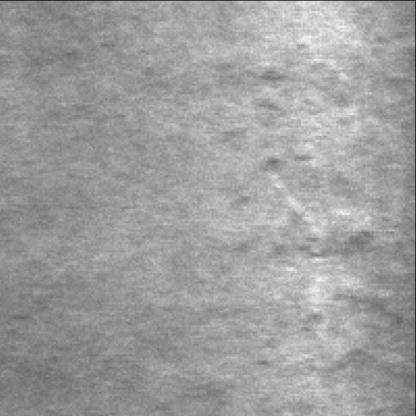rolled-in_scale: (245, 62, 356, 254)
